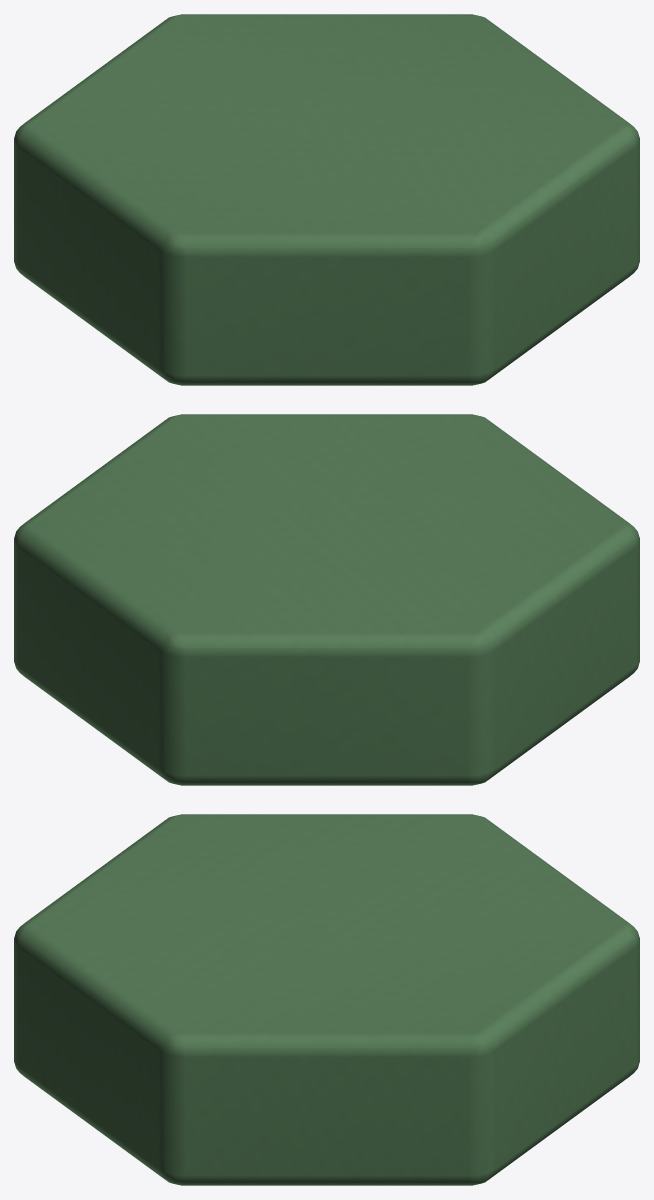
File: shape_hexagon.glb
The picture shows the model from 3 angles, top to bottom: view 1: azimuth 30°, elevation 25°; view 2: azimuth 150°, elevation 25°; view 3: azimuth 270°, elevation 25°; orthographic projection.
Parts seen in each view (by area): view 1: SingleShapeBody.003; view 2: SingleShapeBody.003; view 3: SingleShapeBody.003.
Part boxes in pixels (x1,y1,x2,y2): SingleShapeBody.003: [14, 14, 639, 385]; SingleShapeBody.003: [14, 414, 639, 785]; SingleShapeBody.003: [14, 814, 639, 1185].
Size of the model in its own units: 0.7275 by 0.22 by 0.8261.
Materials: 1 (1 with a texture image).
